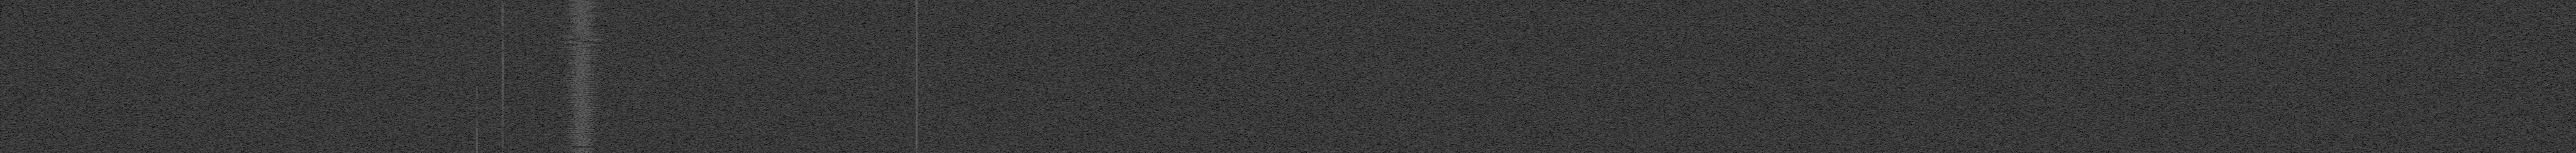wv_am: (912, 0, 922, 151)
wv_lsb: (501, 2, 504, 153), (475, 84, 478, 153), (475, 46, 478, 66), (475, 69, 478, 82), (475, 16, 478, 26), (475, 2, 478, 10), (475, 28, 478, 36), (475, 38, 478, 44), (476, 12, 478, 15)
wv_wbfm: (555, 0, 608, 146), (562, 148, 603, 153)
